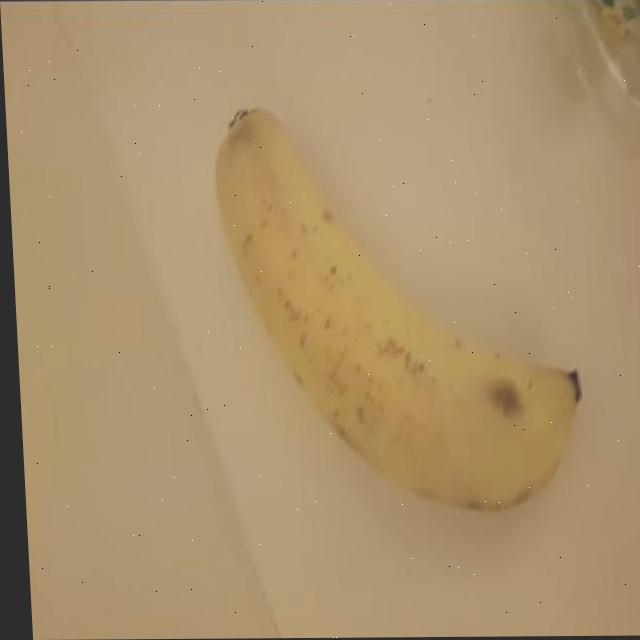banana: (193, 98, 597, 526)
